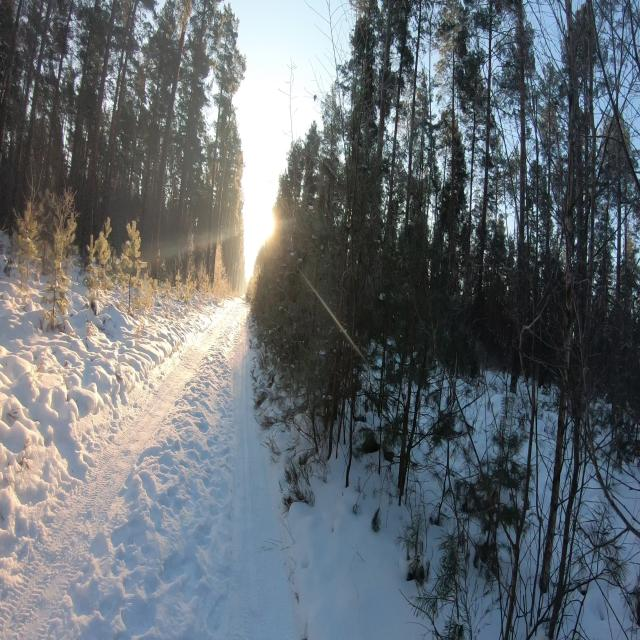bush: (262, 167, 621, 628), (540, 0, 578, 593), (503, 377, 536, 640), (18, 190, 76, 328), (42, 190, 76, 329), (84, 217, 112, 311), (120, 220, 144, 313), (16, 201, 38, 289)
trees: (152, 0, 192, 274), (178, 0, 208, 239), (105, 0, 138, 207), (20, 0, 53, 194), (89, 0, 116, 234), (207, 11, 228, 279), (477, 0, 493, 311), (387, 2, 408, 231), (47, 0, 73, 157), (405, 0, 422, 227), (516, 0, 526, 280), (376, 0, 391, 169), (588, 40, 597, 287), (446, 5, 456, 225), (468, 114, 476, 258), (534, 104, 539, 268), (616, 173, 621, 301), (585, 0, 592, 17)
